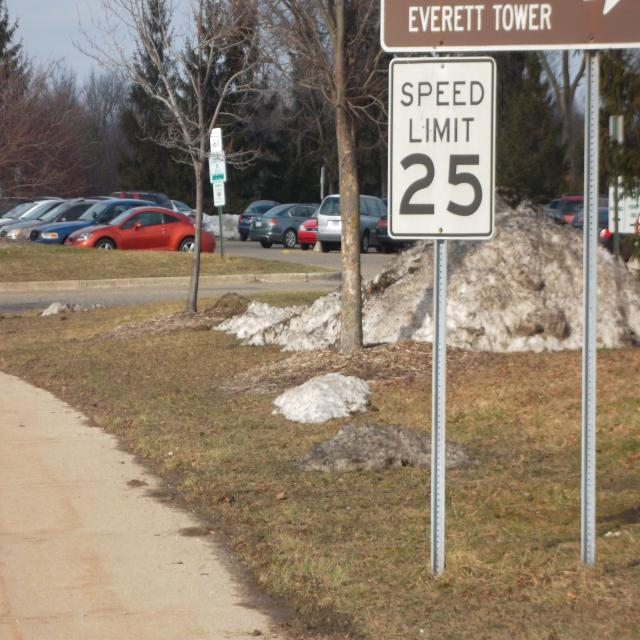regulatory: (385, 56, 499, 242)
